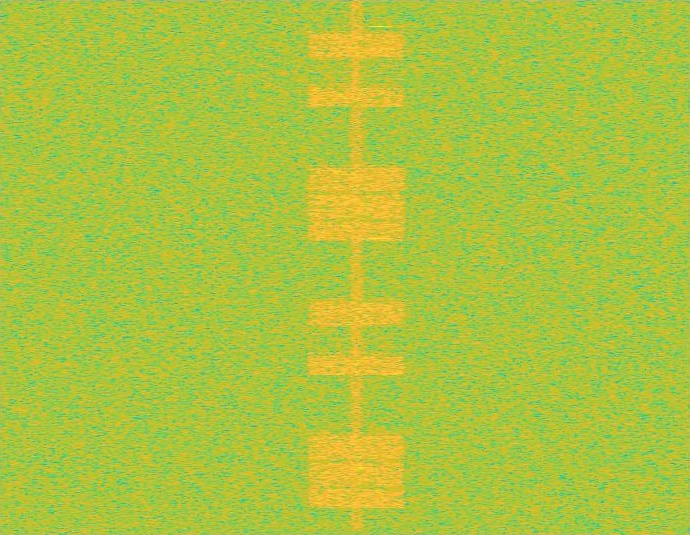DSSS: (350, 0, 364, 534)
LTE: (305, 0, 408, 534)
Radar: (373, 0, 387, 534)
